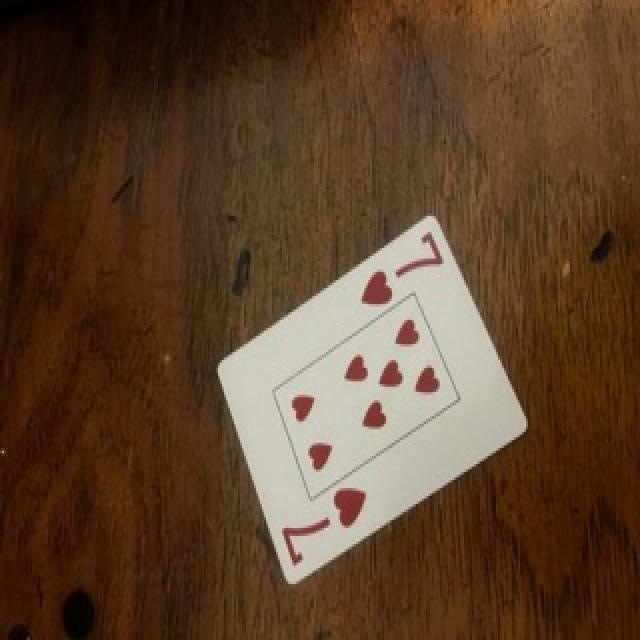7 of hearts: (219, 217, 526, 583)
